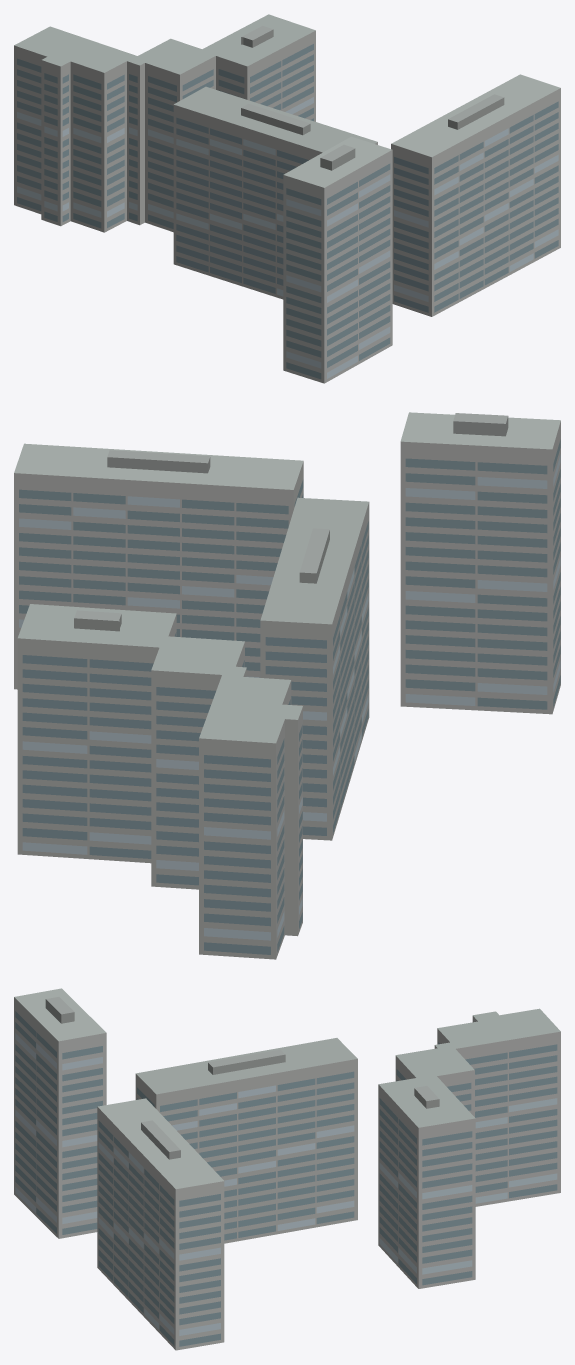
File: apt-a14206303.glb
3 renders of one model, top to bottom at view 1: azimuth 30°, elevation 25°; view 2: azimuth 150°, elevation 25°; view 3: azimuth 270°, elevation 25°, orthographic. The views are drawn at different scales.
Visible parts, largest first — view 1: apt-a14206303; view 2: apt-a14206303; view 3: apt-a14206303.
Boxes of the visible parts, x1=… form: apt-a14206303: x1=14, y1=14, x2=560, y2=383; apt-a14206303: x1=14, y1=412, x2=560, y2=959; apt-a14206303: x1=14, y1=988, x2=560, y2=1350.
Bounding box in the file's own units: 91.74 × 49 × 117.
